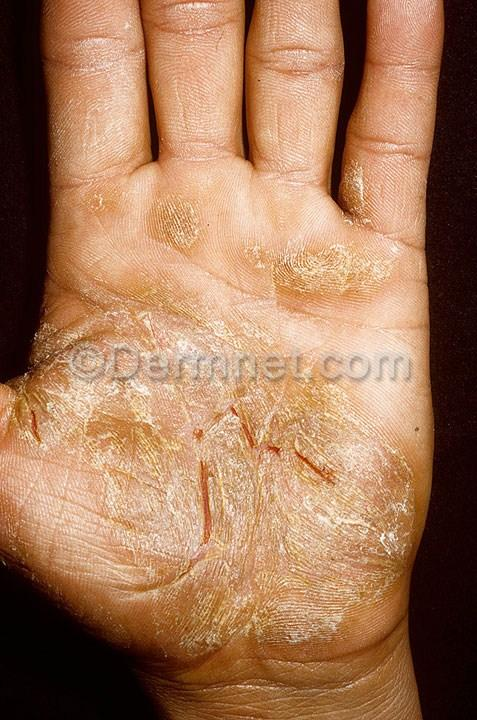Eczema: (120, 495, 335, 681), (179, 332, 340, 495), (38, 285, 175, 468), (270, 196, 414, 356), (338, 424, 418, 560), (160, 160, 230, 269), (63, 173, 128, 245)
